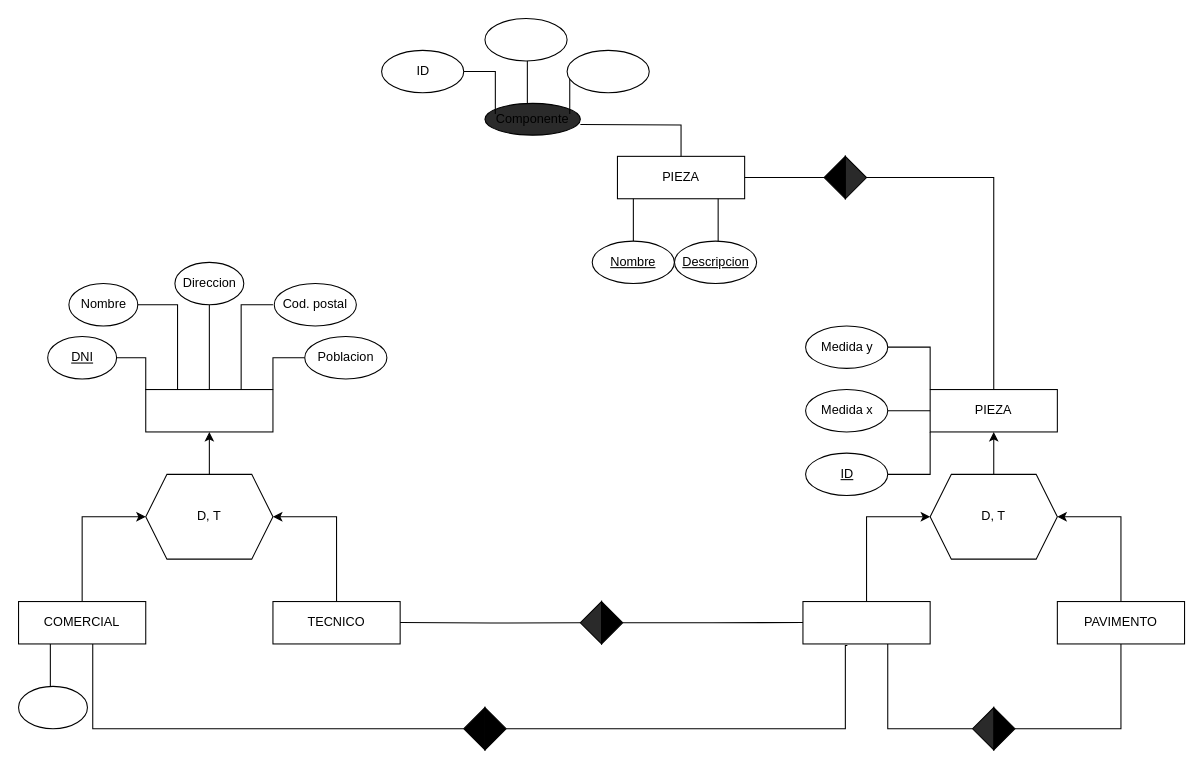
This 1203x768 diagram has some shape labels left out. Each missing label, with the centre of its shape:
"Comision" belongs at point (52, 707).
"Formula" belongs at point (607, 71).
"Porcentaje" belongs at point (525, 39).
"RODAPIÉ" belongs at point (866, 622).
"TRABAJADOR" belongs at point (209, 410).
